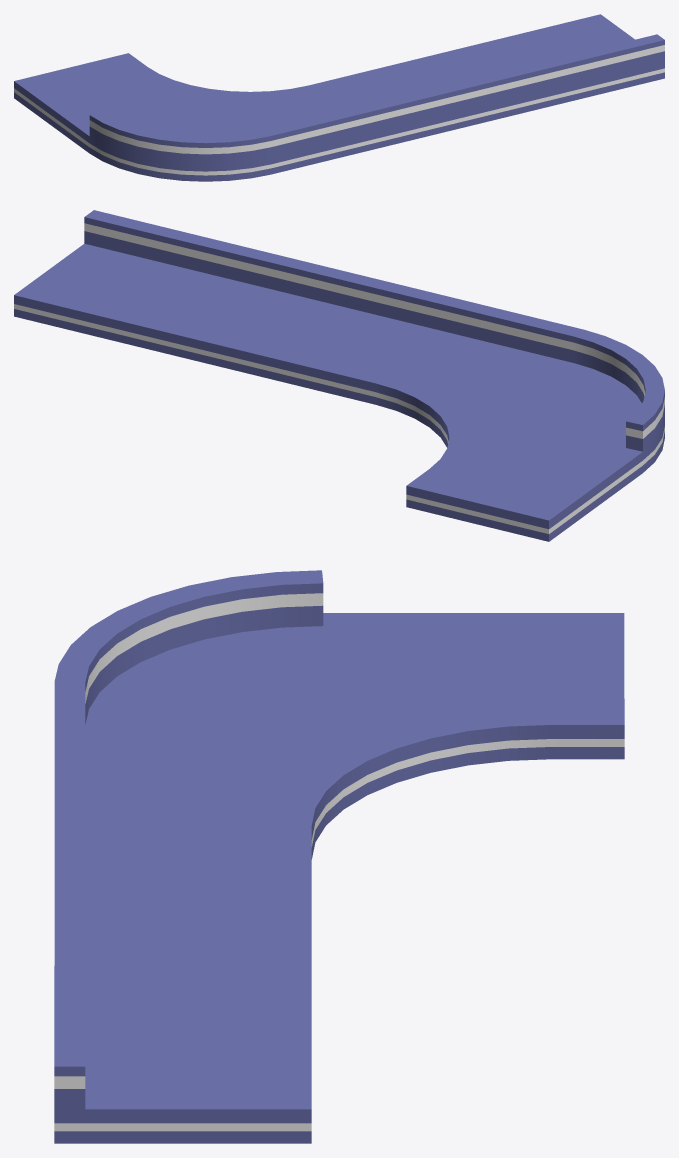
The model's file is sm_jumpStart_07.fbx.
The picture shows the model from 3 angles, top to bottom: view 1: azimuth 30°, elevation 25°; view 2: azimuth 150°, elevation 25°; view 3: azimuth 270°, elevation 25°; orthographic projection. The views are drawn at different scales.
Visible parts, largest first — view 1: sm_jumpStart_07; view 2: sm_jumpStart_07; view 3: sm_jumpStart_07.
Part boxes in pixels (x1,y1,x2,y2): sm_jumpStart_07: (14,14,664,181); sm_jumpStart_07: (14,210,664,541); sm_jumpStart_07: (54,570,624,1143).
Bounding box in the file's own units: 2961 × 215 × 1437.
